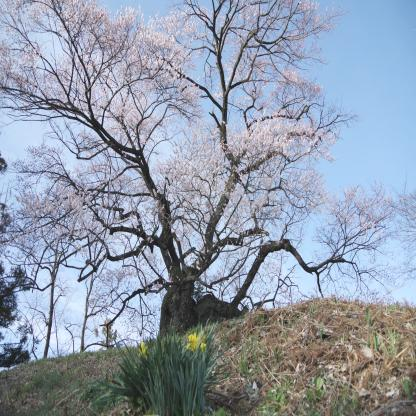EdohiganSakura: (0, 0, 404, 340)
